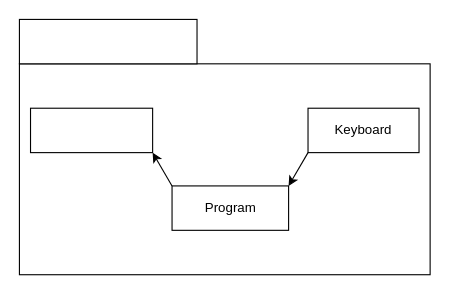
Image size: 450x294. Some labels were removed from this diagram. The shapes that lost their labels are listed below. From the top down, each one's centre as x and y in pixels, then its label:
point (107, 41): Geometry Melee
point (91, 130): Monitor
